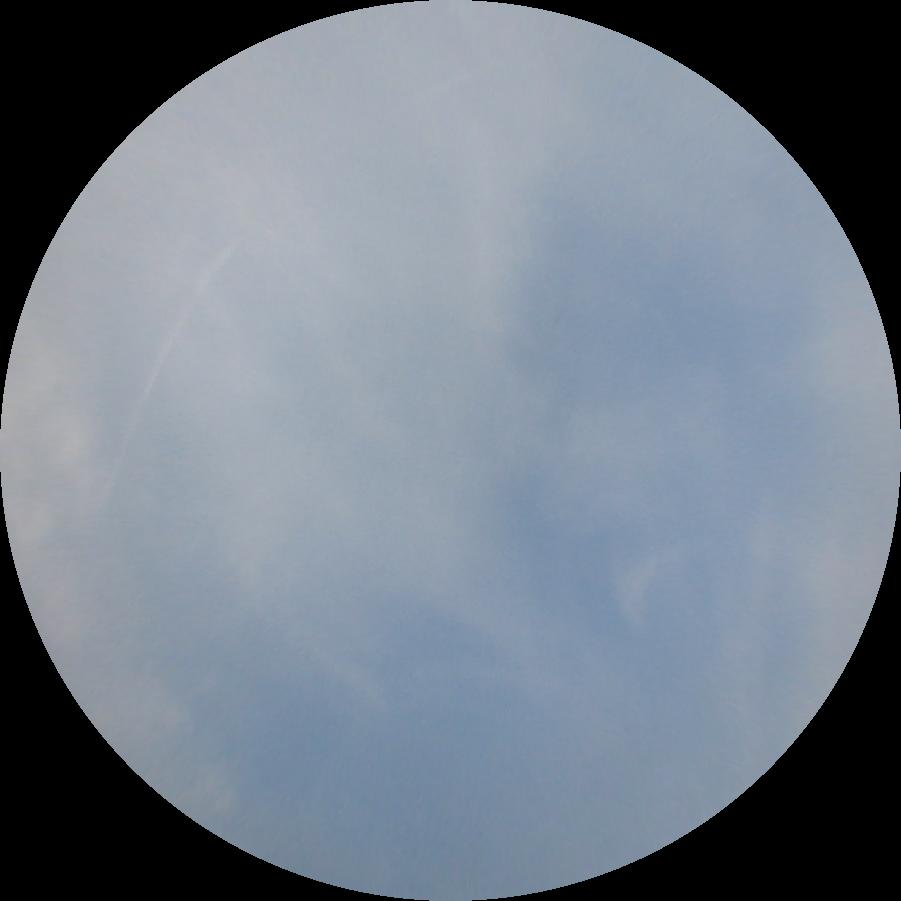contrail old: (95, 228, 256, 509)
